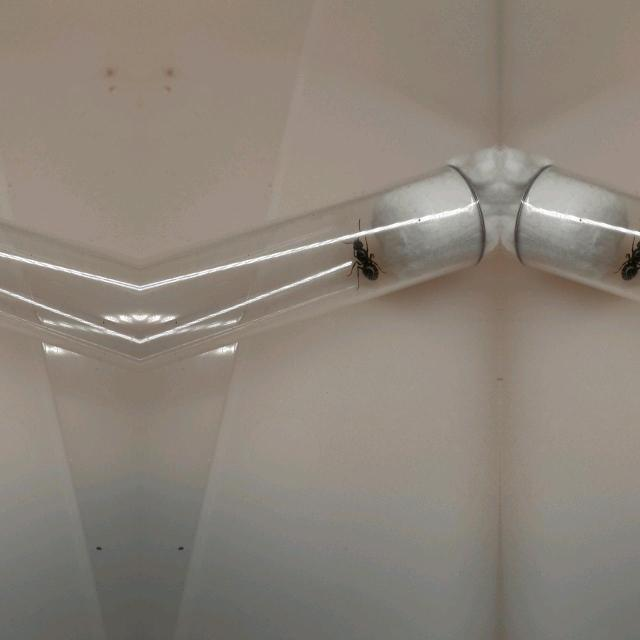Formica: (339, 220, 387, 290), (612, 220, 640, 288)
